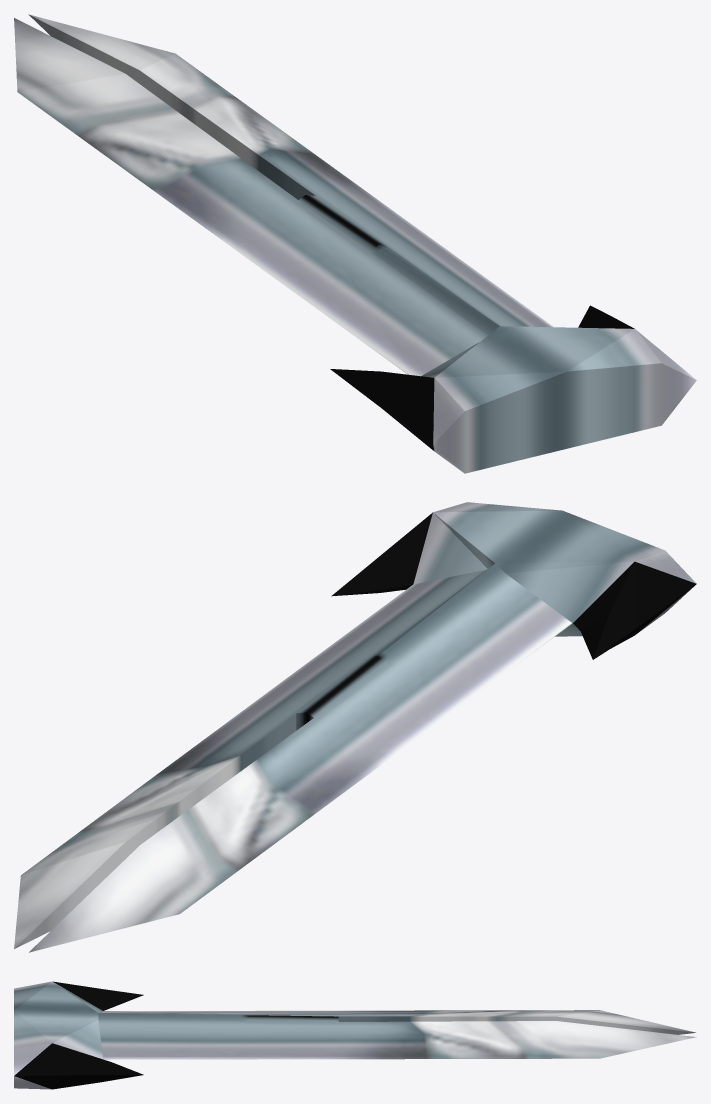
The model's file is twinblade10z.obj.
3 views of the same model, one above another, from view 1: azimuth 30°, elevation 25°; view 2: azimuth 150°, elevation 25°; view 3: azimuth 270°, elevation 25° (orthographic). The views are drawn at different scales.
Visible parts, largest first — view 1: MDL_cwdhkn0zr; view 2: MDL_cwdhkn0zr; view 3: MDL_cwdhkn0zr.
Boxes of the visible parts, x1=… form: MDL_cwdhkn0zr: x1=14, y1=14, x2=696, y2=473; MDL_cwdhkn0zr: x1=14, y1=502, x2=696, y2=952; MDL_cwdhkn0zr: x1=14, y1=981, x2=696, y2=1089.
Bounding box in the file's own units: 0.0937 × 0.0262 × 0.3337.
